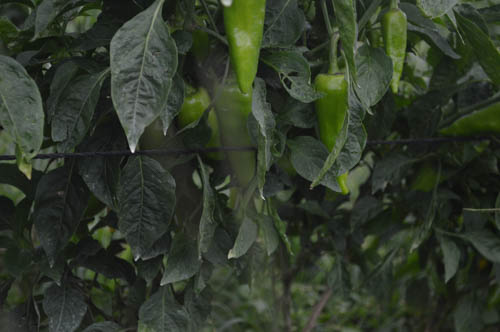ChiliPepper: (307, 68, 355, 197), (214, 2, 264, 95), (176, 86, 224, 164), (378, 6, 410, 98), (438, 101, 500, 137)
